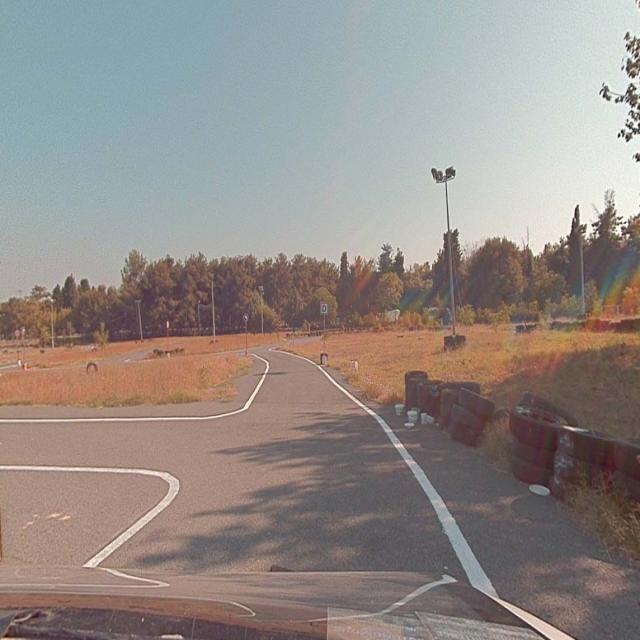durak: (322, 303, 328, 314)
